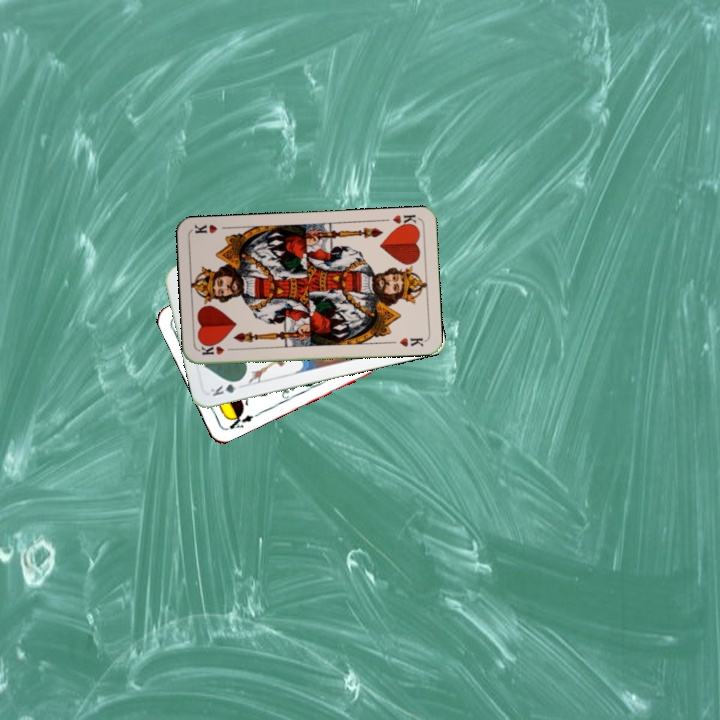EA: (223, 408, 262, 432)
GK: (207, 376, 245, 399)
HK: (197, 340, 237, 357), (389, 211, 420, 231)
